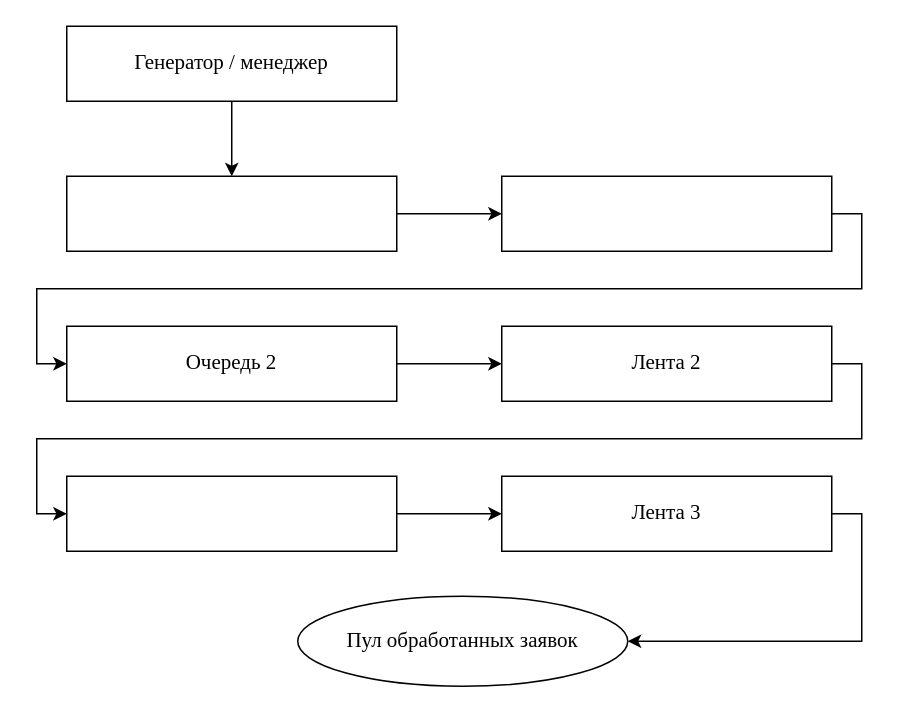
This 900x713 diagram has some shape labels left out. Here are the shapes that lost their labels. From the top down, the centre of each, then its label:
the point at 231,213: Очередь 1
the point at 666,213: Лента 1
the point at 231,513: Очередь 3
